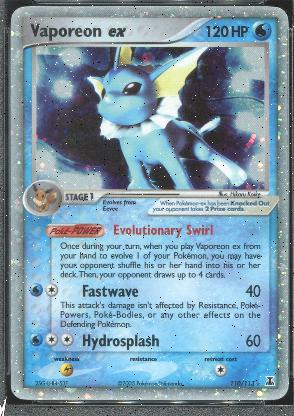Card: (9, 3, 291, 403)
